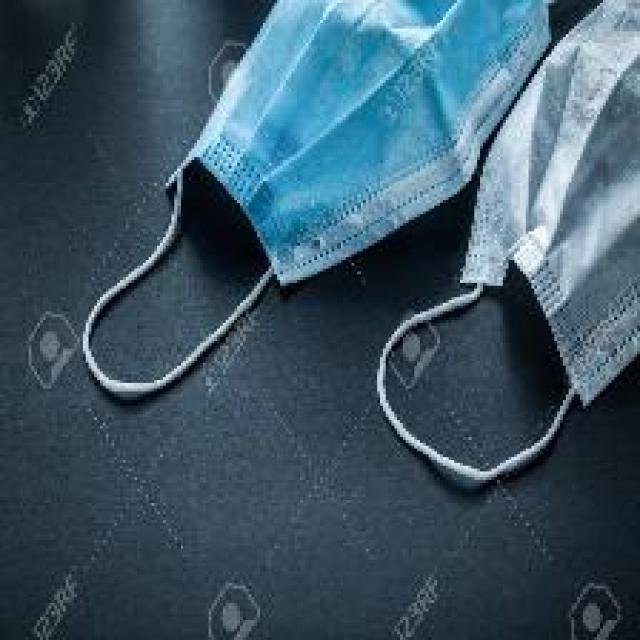Mask: (117, 0, 640, 487)
